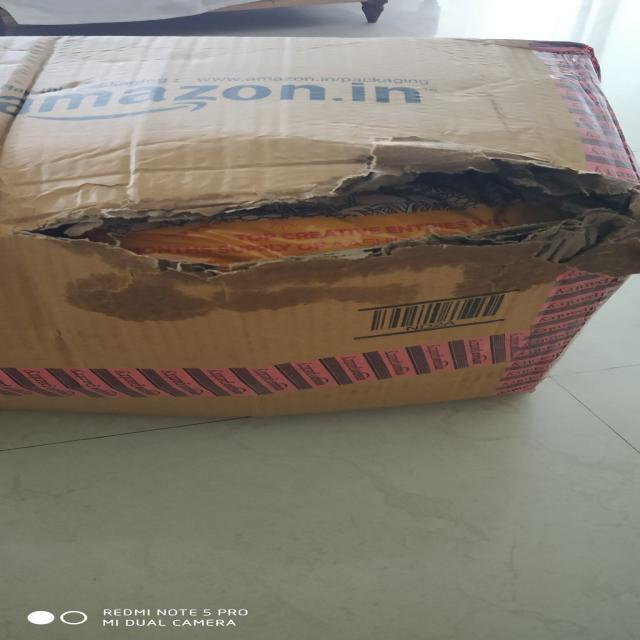wet: (72, 260, 608, 316)
